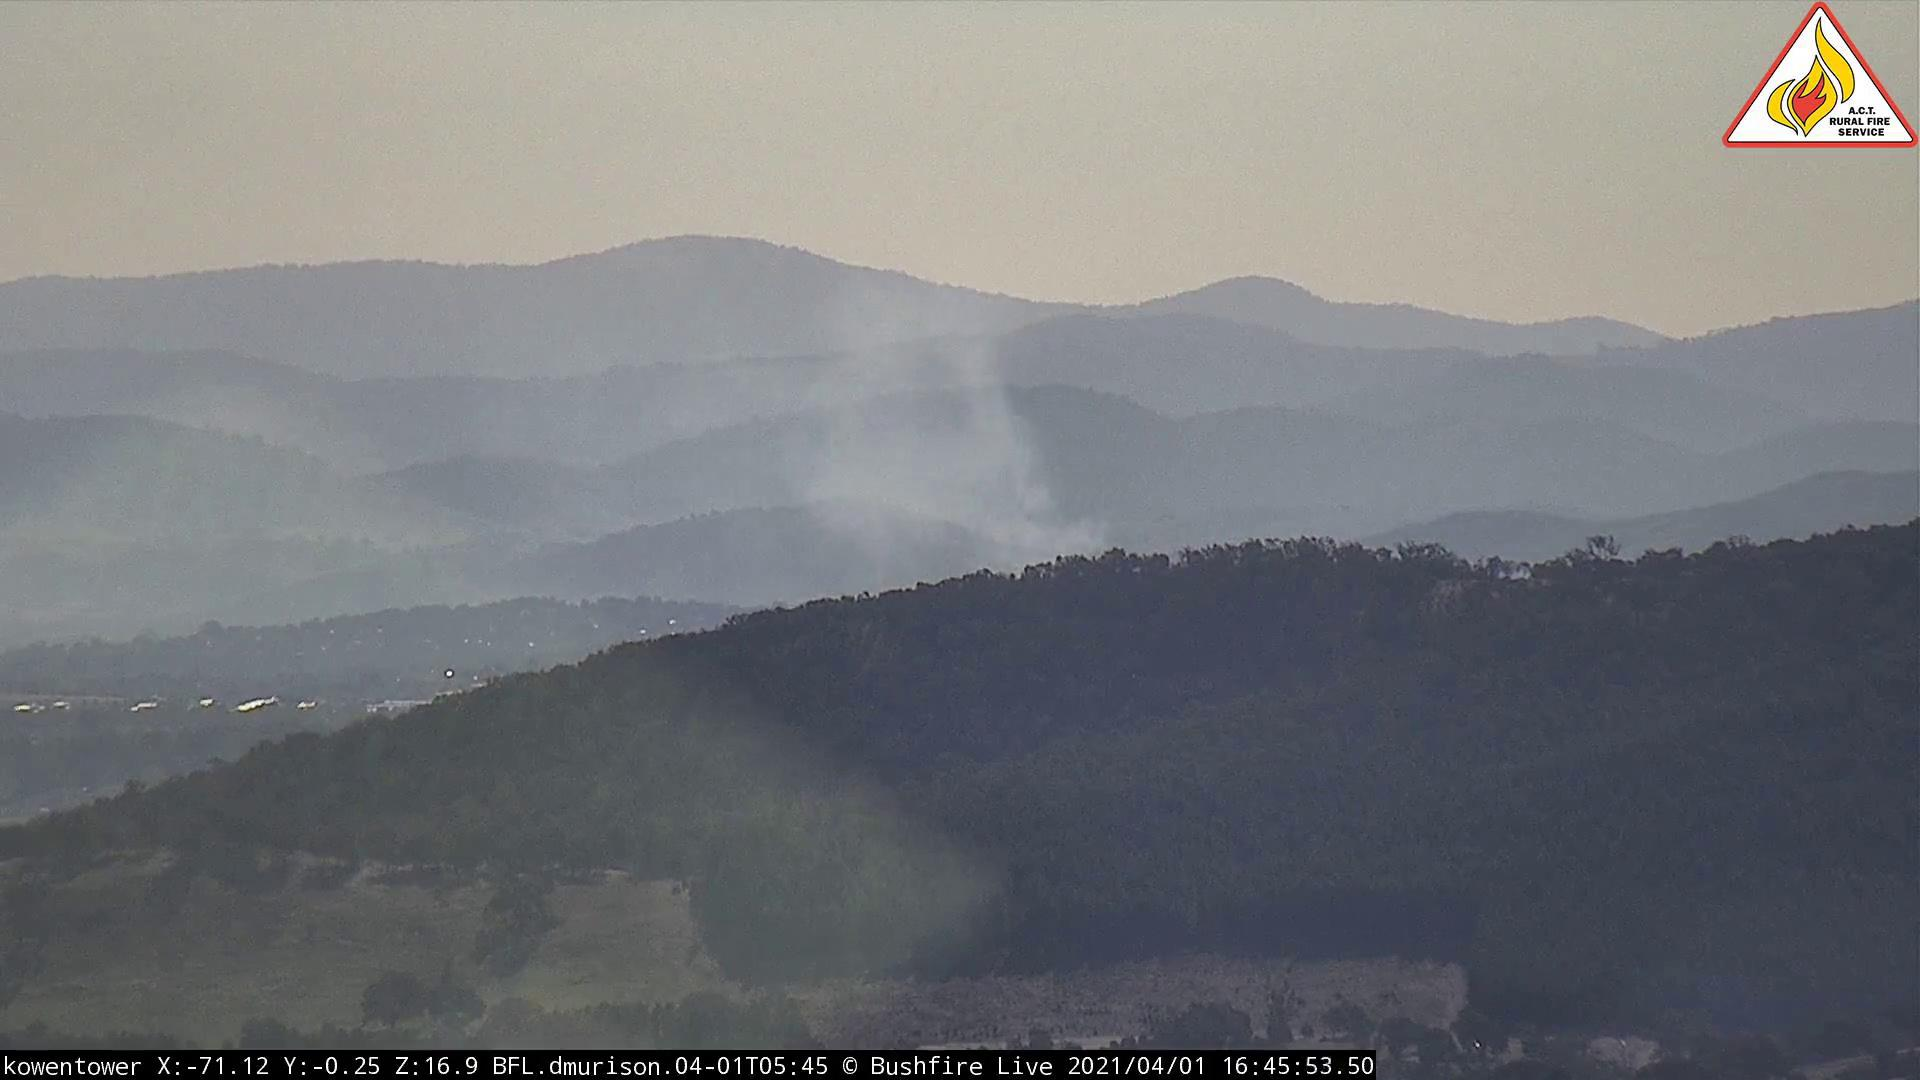Smoke: (767, 255, 1149, 607)
